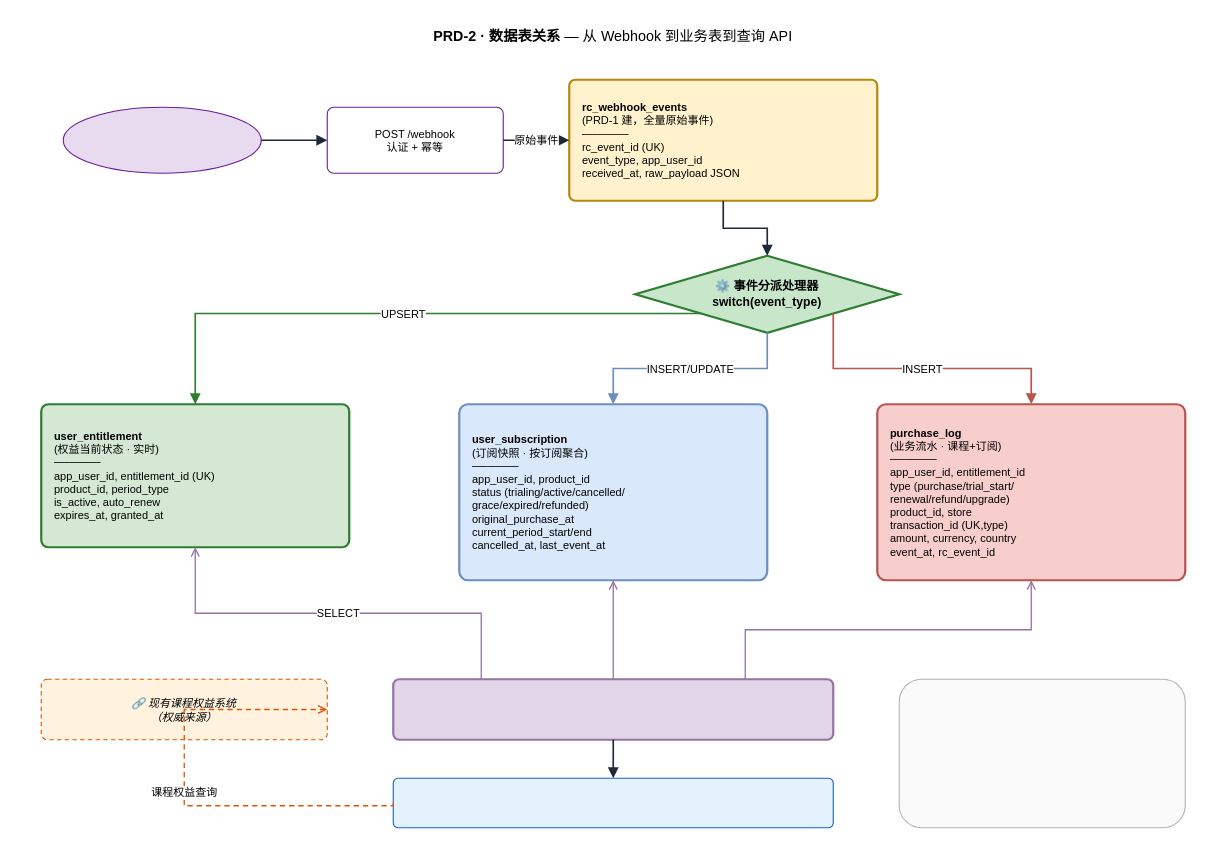
Image size: 1225x847. Some labels were removed from this diagram. Here are the shapes that lost their labels. From the top down, the centre of each, then its label:
(x=161, y=139): 🔔 RevenueCat Webhook
(x=613, y=709): 🔌 GET /api/v1/user/{id}/purchases "我的购买"查询 API
(x=1041, y=753): 图例 🟡 原始日志（入仓） 🟢 权益当前状态 🔵 订阅快照 🔴 流水（幂等键 transaction_id,type） ┄┄ 课程权益（走现有系统）
(x=612, y=802): 📱 客户端 · 我的购买页
